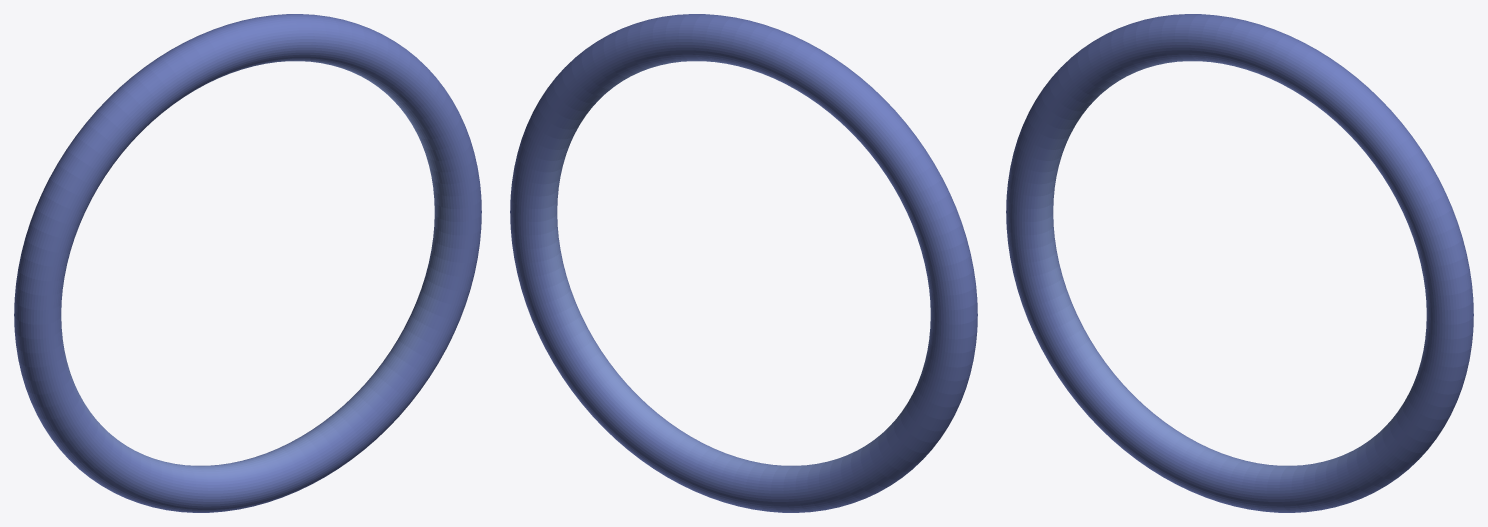
The picture shows the model from 3 angles, left to right: view 1: azimuth 30°, elevation 25°; view 2: azimuth 150°, elevation 25°; view 3: azimuth 330°, elevation 25°; orthographic projection.
Visible parts, largest first — view 1: world; view 2: world; view 3: world.
Boxes of the visible parts, box(x1,y1,x2,y2) form: world: box(14, 14, 481, 512); world: box(510, 14, 977, 512); world: box(1006, 14, 1473, 512).
Size of the model in its own units: 25.6 by 25.6 by 2.26.
